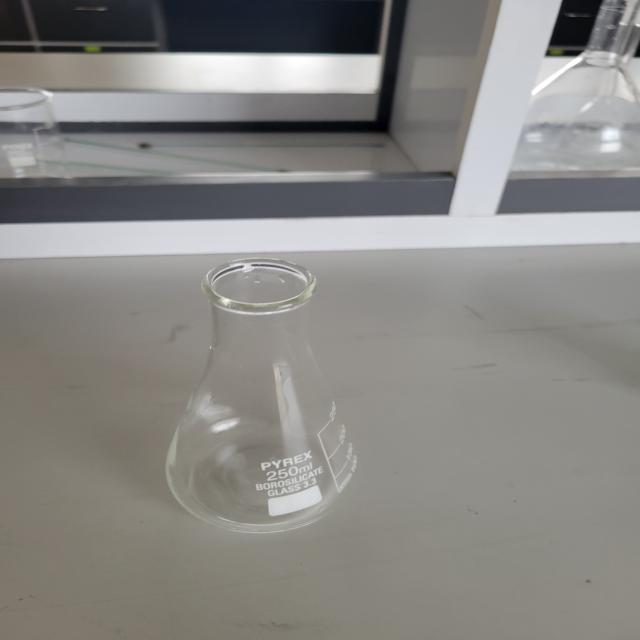Conical_Flask: (142, 237, 387, 551)
